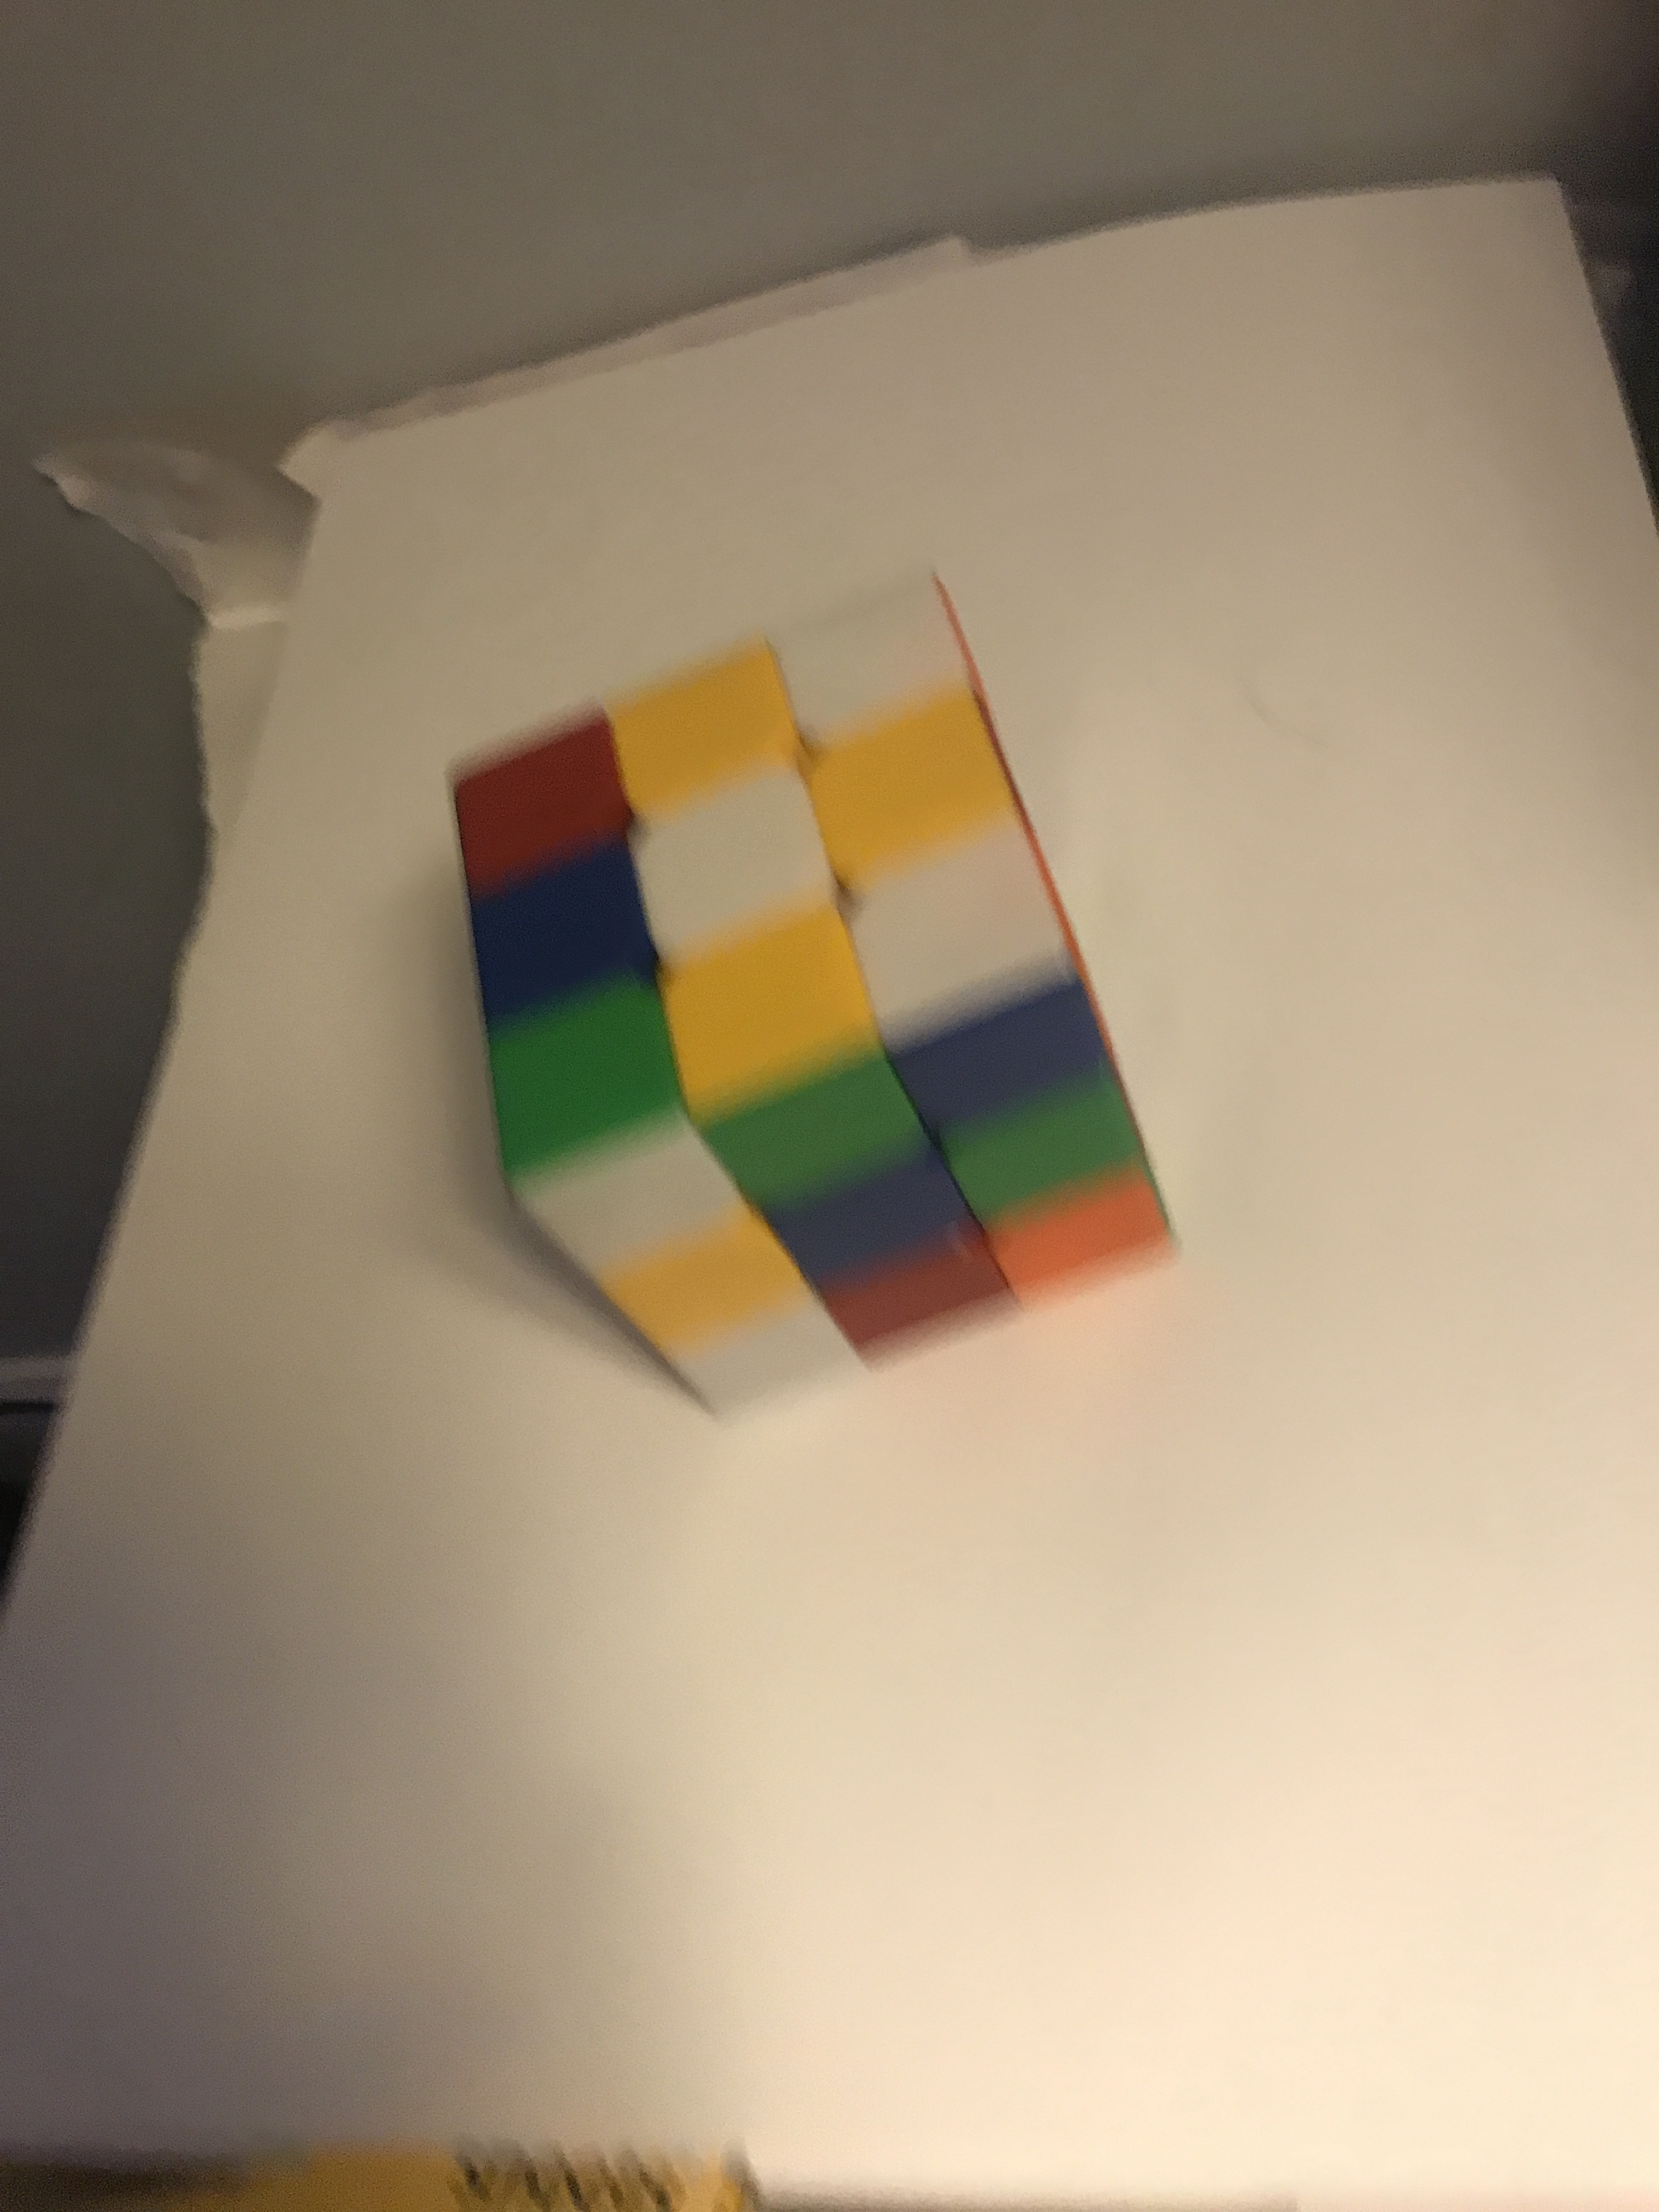rubiks: (441, 571, 1213, 1433)
